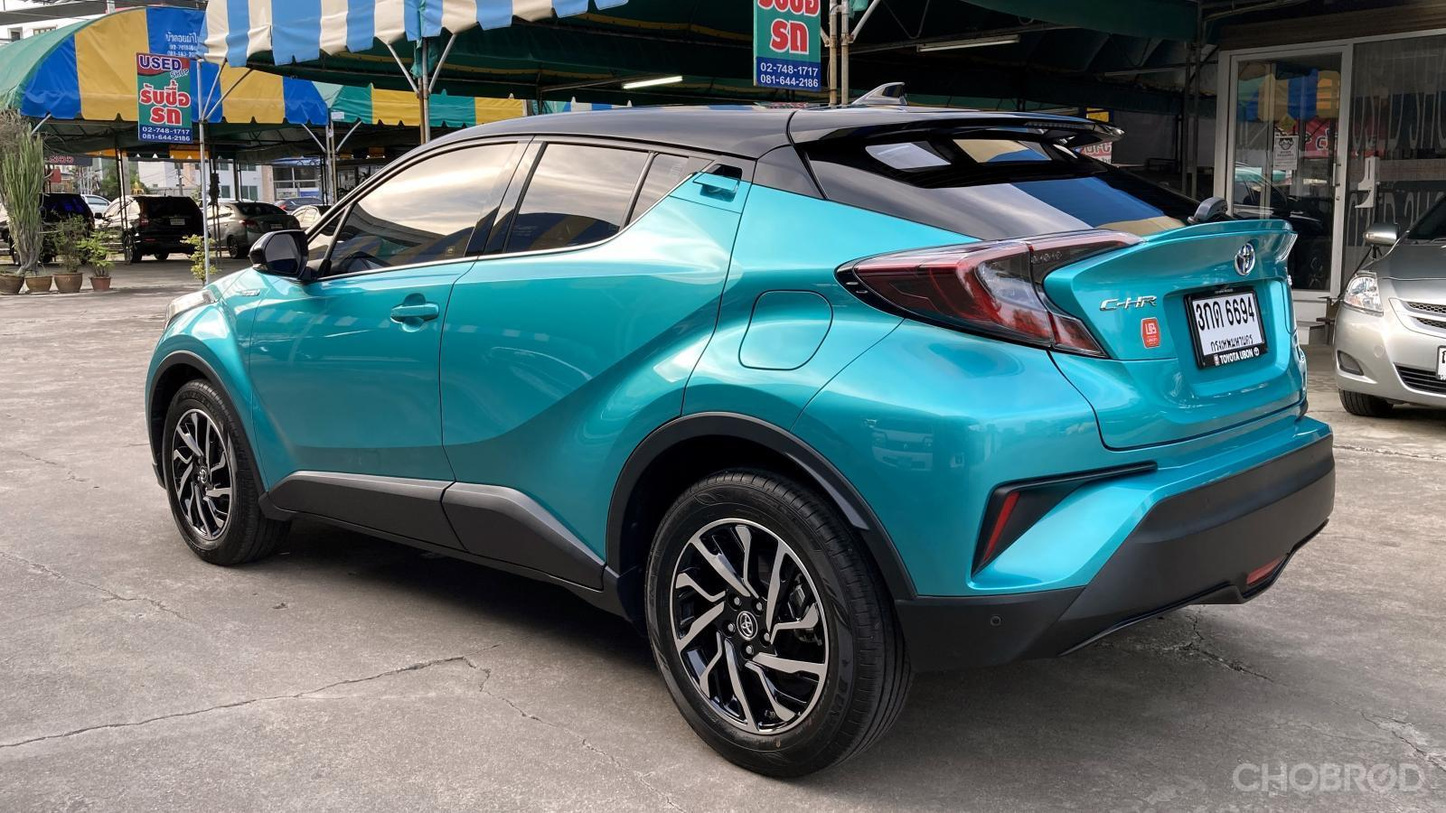license-plate: (1182, 285, 1268, 372)
